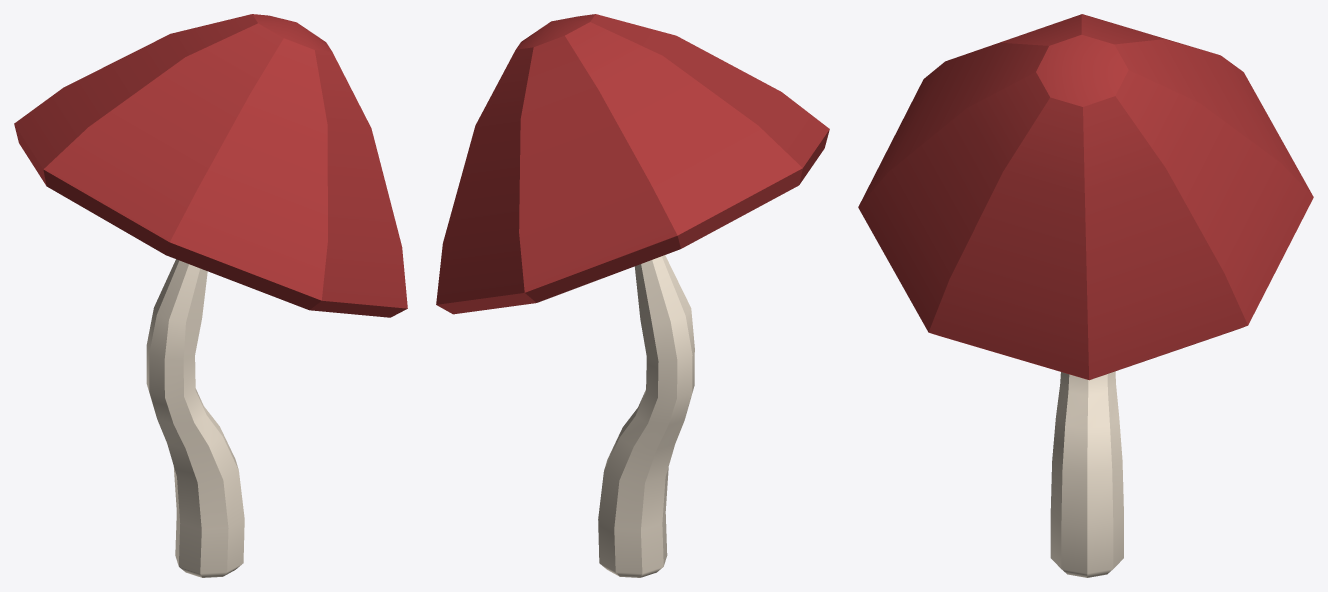
Rendered from Shroom.fbx.
3 renders of one model, left to right at view 1: azimuth 30°, elevation 25°; view 2: azimuth 150°, elevation 25°; view 3: azimuth 270°, elevation 25°, orthographic. The views are drawn at different scales.
Visible parts, largest first — view 1: Shroom; view 2: Shroom; view 3: Shroom.
Boxes of the visible parts, bbox=[...] form: Shroom: bbox=[14, 14, 407, 577]; Shroom: bbox=[436, 14, 829, 577]; Shroom: bbox=[858, 14, 1313, 577].
Size of the model in its own units: 2.49 by 3.76 by 2.8.
